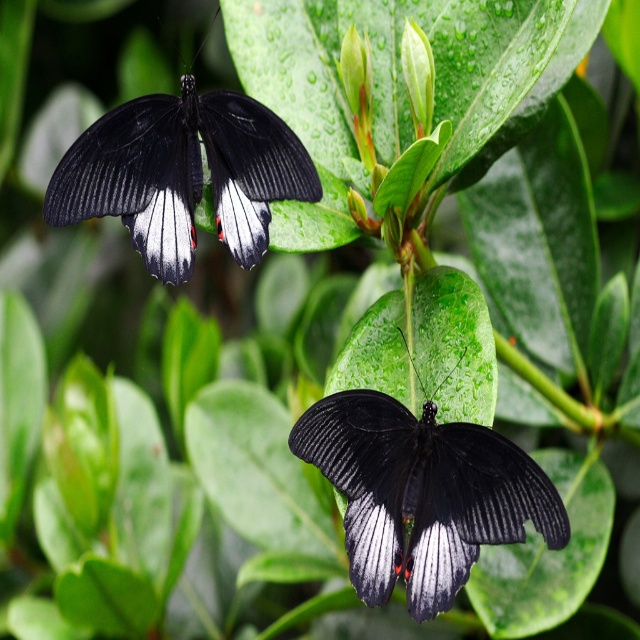Butterfly: (288, 325, 571, 623), (39, 4, 324, 293)
